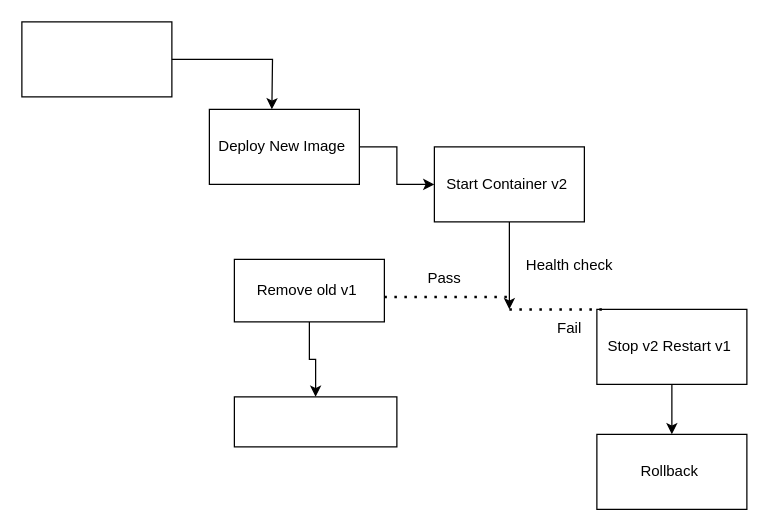
Image size: 769x531. Some labels were removed from this diagram. Each missing label, with the centre of its shape:
Current Container V1: the point at 96,59
Production: the point at 315,421
